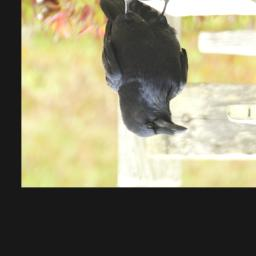Crow: (99, 0, 190, 138)
